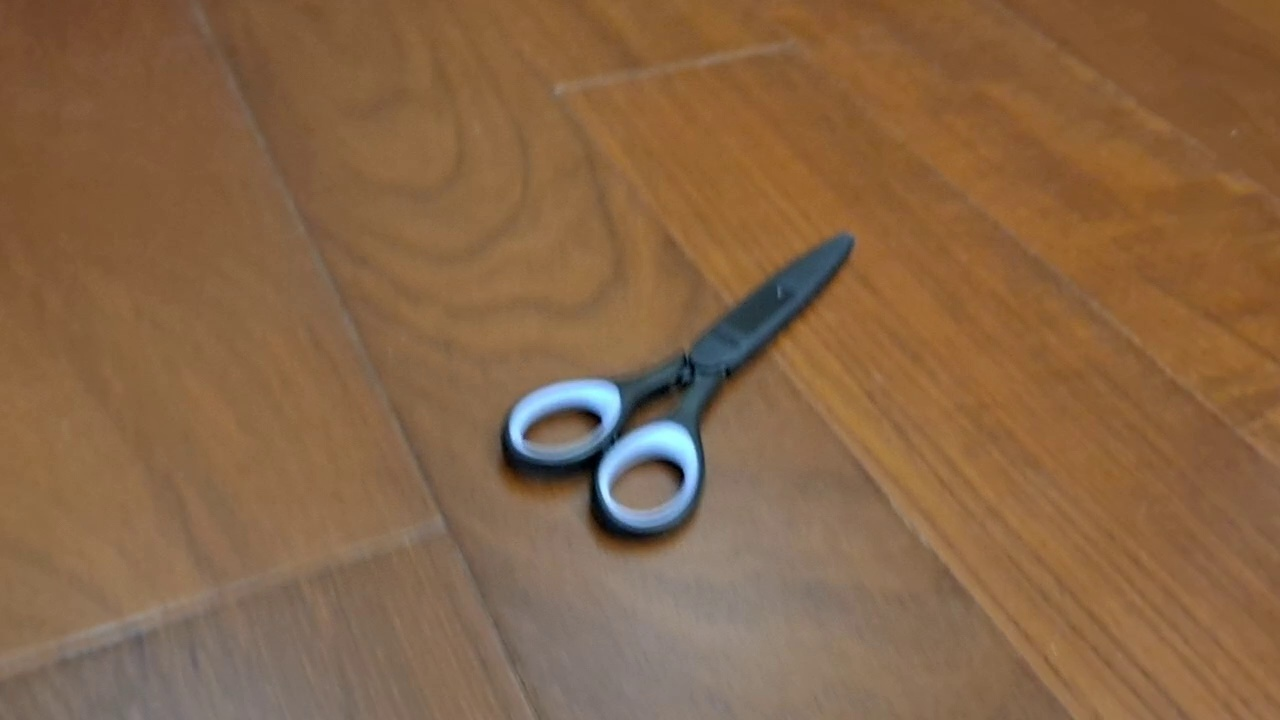scissors: (499, 231, 858, 542)
